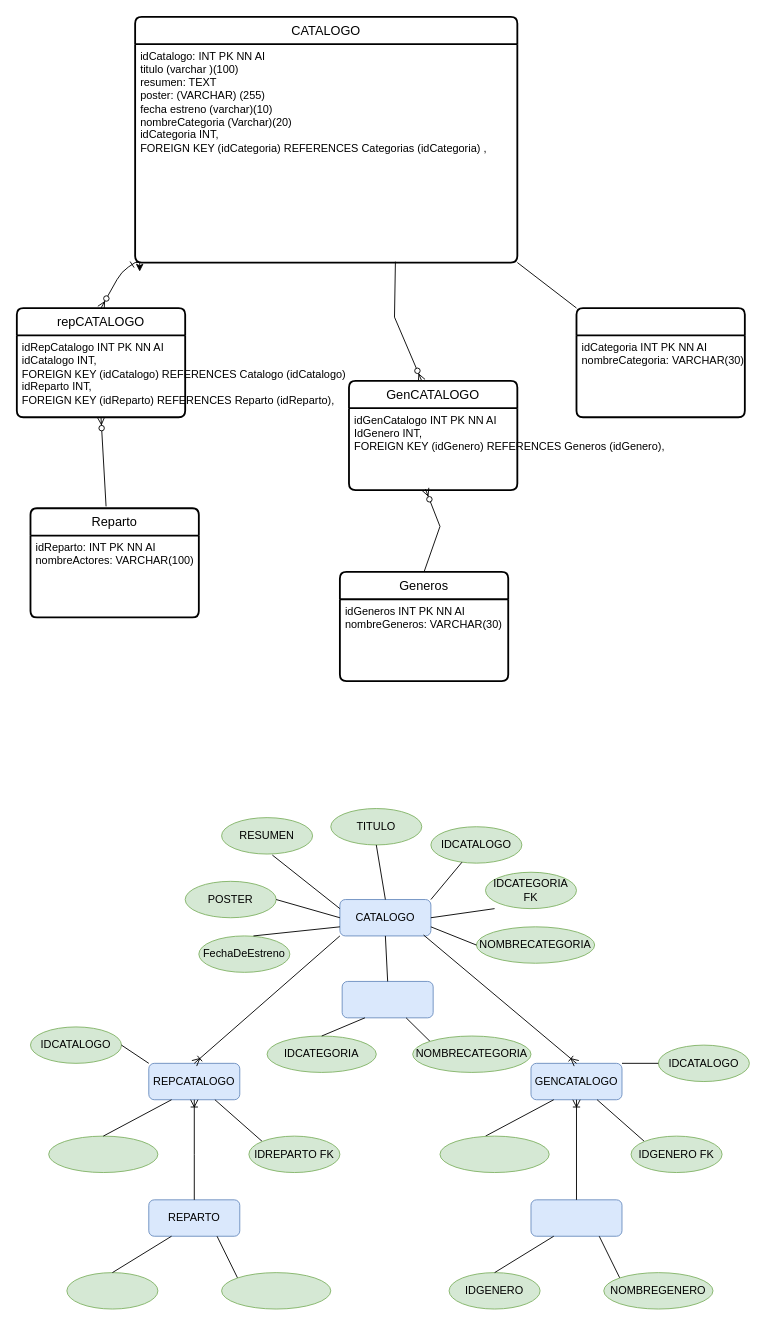
Image size: 765x1325. Some labels were removed from this diagram. Here are the shapes that lost their labels. From the top down, the box of each, then its label:
(575, 307, 745, 418): Categorias
(341, 981, 433, 1018): CATEGORIA
(48, 1135, 158, 1173): IDREPCATALOGO
(439, 1135, 549, 1173): IDGENCATALOGO
(530, 1199, 622, 1236): GENERO
(66, 1272, 158, 1309): IDREPARTO
(221, 1272, 331, 1309): NOMBREACTORES
